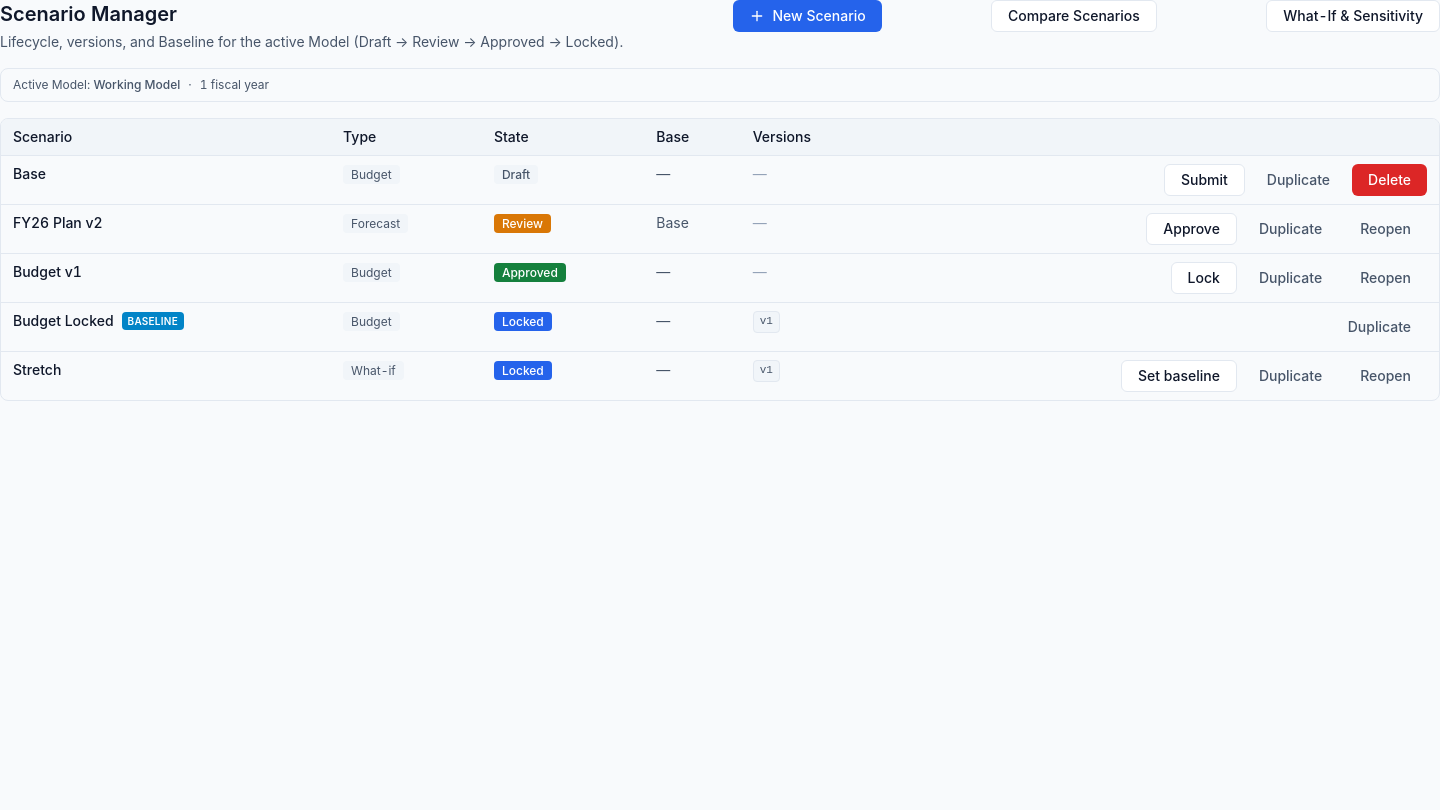
it: S-050 Scenario Manager (F-022) › deletes a Draft only after the D-004 typed confirmation
Click the button "Delete".
click(1390, 180)  # box [1352,164,1427,196]
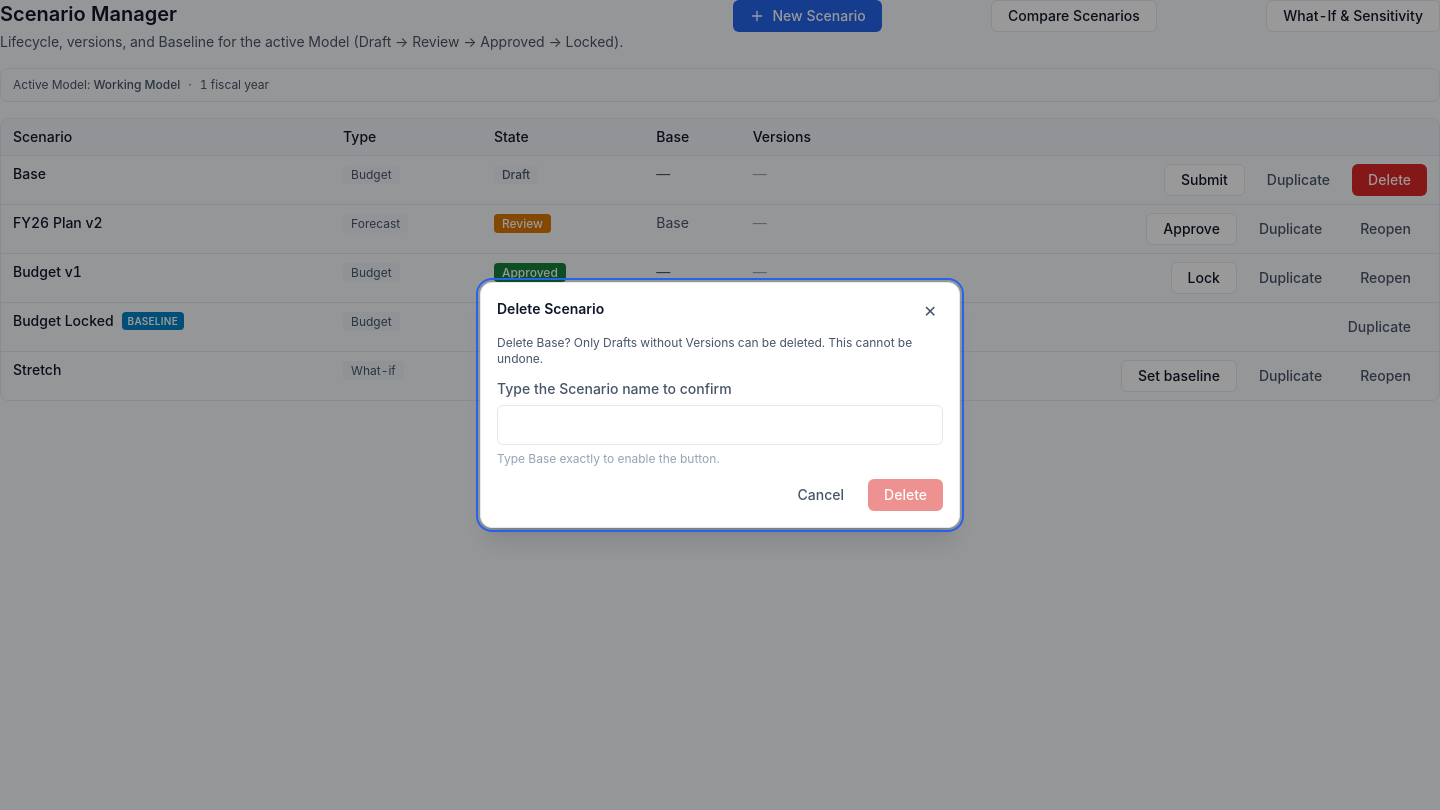
Check: the button "Delete" is disabled, box [868,479,943,511]
Type "Base" into the field labelled "Type the Scenario name to confirm".
click(720, 425); type("Base")  # box [497,405,943,445]
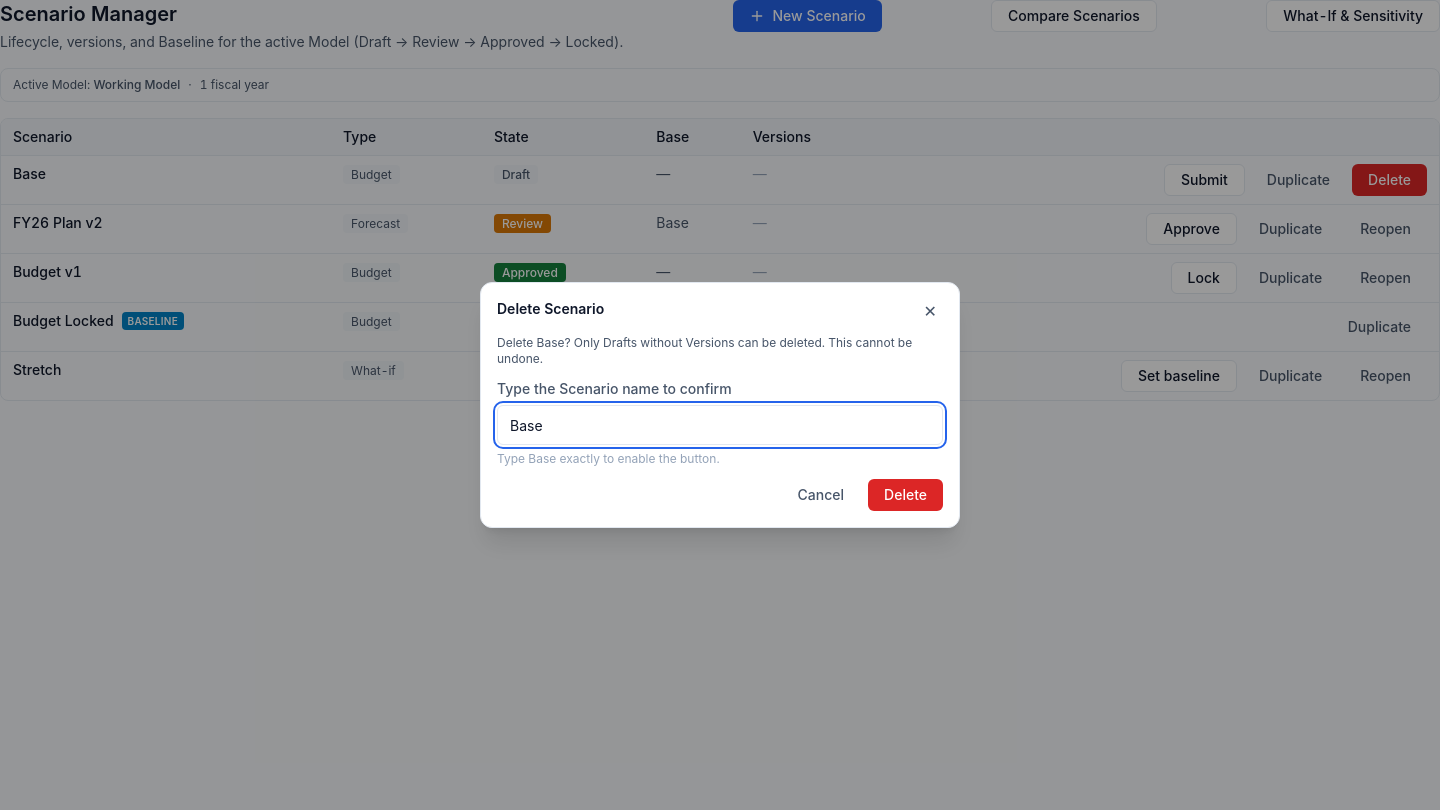
Click the button "Delete".
click(906, 495)  # box [868,479,943,511]
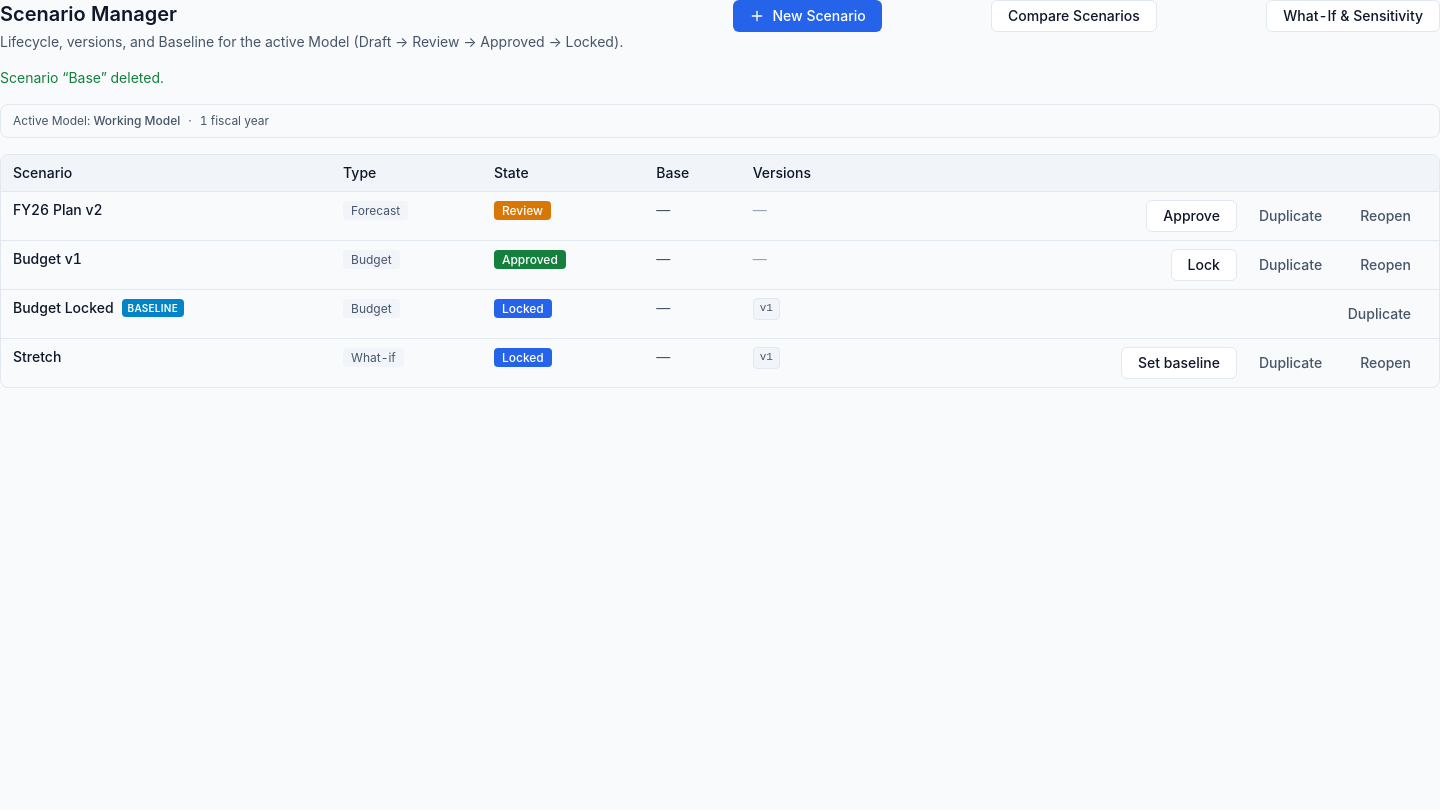
Check: the text "Scenario “Base” deleted." is shown, box [0,69,164,86]
